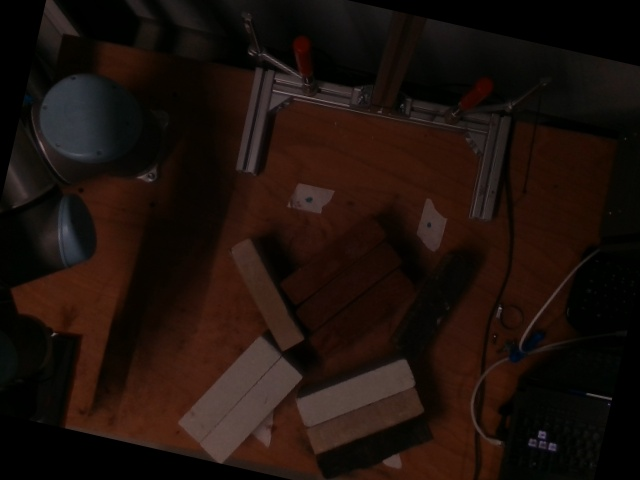brick-side: (202, 357, 303, 463), (182, 340, 280, 441), (279, 217, 385, 310), (310, 267, 416, 359), (296, 242, 401, 334), (227, 235, 301, 350), (296, 361, 413, 426), (317, 414, 434, 479), (305, 388, 421, 453)
